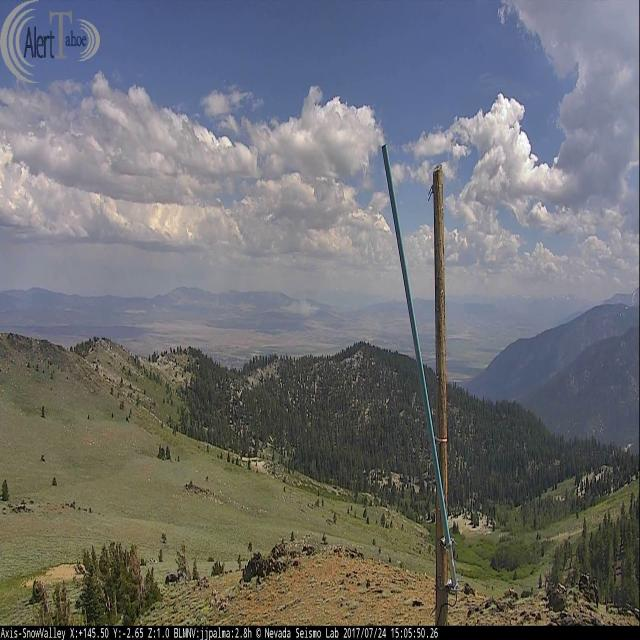smoke: (273, 278, 320, 315)
